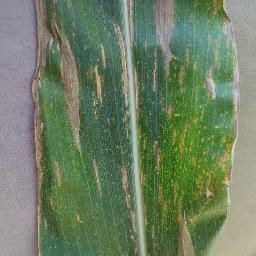Gray_Leaf_Spot: (138, 0, 241, 256), (105, 0, 139, 256), (59, 18, 81, 153), (27, 0, 60, 83), (31, 83, 46, 247), (89, 46, 104, 114), (92, 157, 103, 201), (55, 159, 65, 186), (73, 211, 88, 227)
